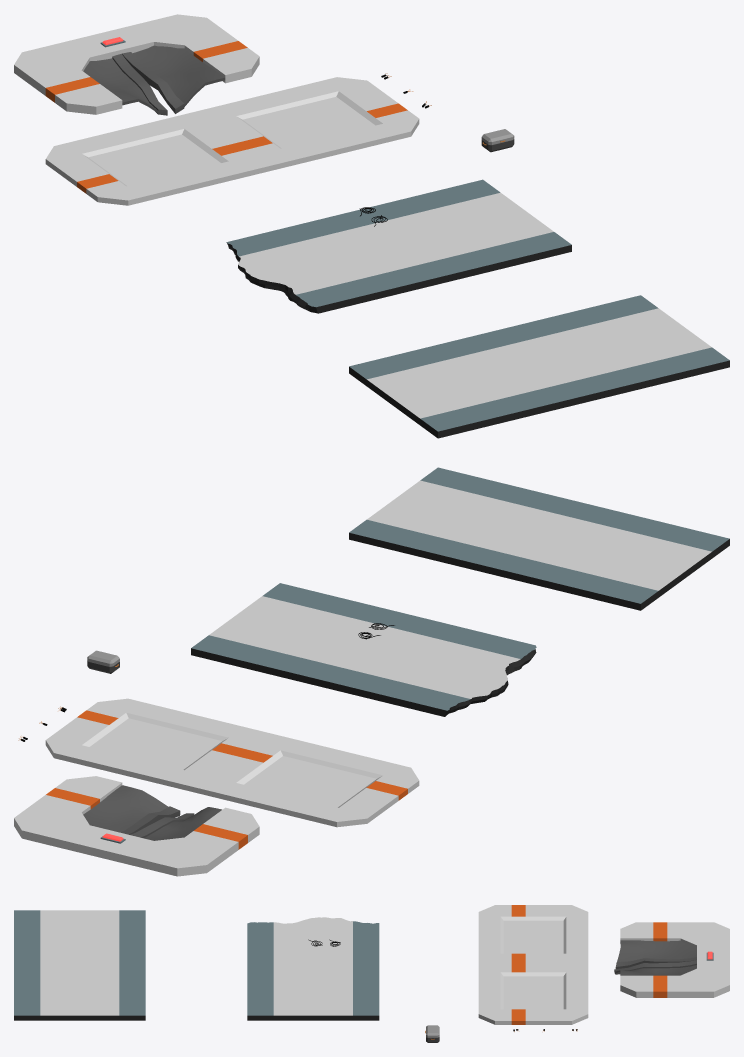
File: level_elements.glb
3 views of the same model, one above another, from view 1: azimuth 30°, elevation 25°; view 2: azimuth 150°, elevation 25°; view 3: azimuth 270°, elevation 25° (orthographic). The views are drawn at different scales.
Parts seen in each view (by area): view 1: Floor, FloorFracture, WallPanel, DoorPanel; view 2: Floor, FloorFracture, WallPanel, DoorPanel; view 3: Floor, FloorFracture, WallPanel, DoorPanel, Crate.
Part boxes in pixels (bbox=[...]): Floor: bbox=[349, 295, 729, 438]; FloorFracture: bbox=[226, 179, 571, 313]; WallPanel: bbox=[45, 77, 419, 205]; DoorPanel: bbox=[14, 14, 259, 115]; Floor: bbox=[349, 467, 729, 610]; FloorFracture: bbox=[191, 583, 536, 716]; WallPanel: bbox=[45, 698, 419, 827]; DoorPanel: bbox=[14, 776, 259, 876]; Floor: bbox=[14, 910, 145, 1020]; FloorFracture: bbox=[247, 917, 379, 1020]; WallPanel: bbox=[478, 905, 588, 1024]; DoorPanel: bbox=[614, 922, 729, 997]; Crate: bbox=[425, 1025, 439, 1042].
Size of the model in its own units: 28.94 by 3.17 by 65.2.
